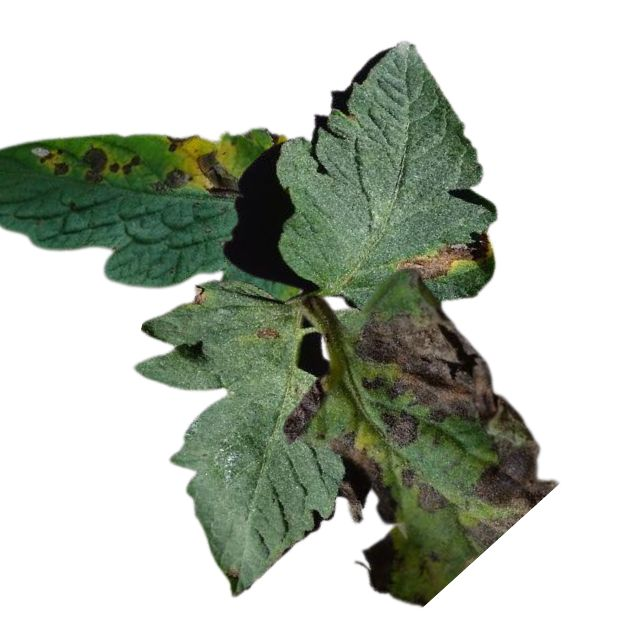Early_blight: (357, 297, 559, 549), (324, 433, 399, 530), (392, 227, 492, 280), (281, 375, 324, 444), (402, 464, 447, 516), (362, 532, 398, 594), (194, 152, 238, 201), (379, 412, 420, 452), (34, 142, 69, 179), (80, 144, 106, 183), (152, 167, 186, 193), (108, 154, 141, 174), (165, 130, 192, 152), (253, 326, 284, 344), (190, 281, 206, 309)
